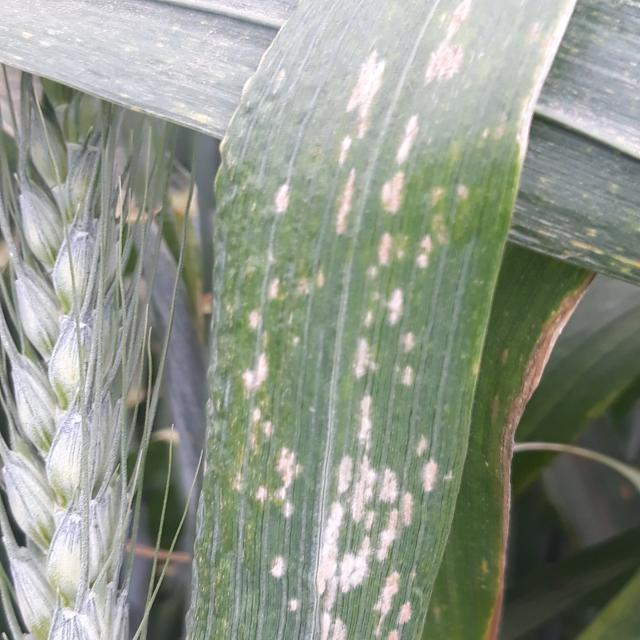powder_mildew: (182, 0, 531, 640), (0, 0, 147, 640), (486, 0, 639, 408)
